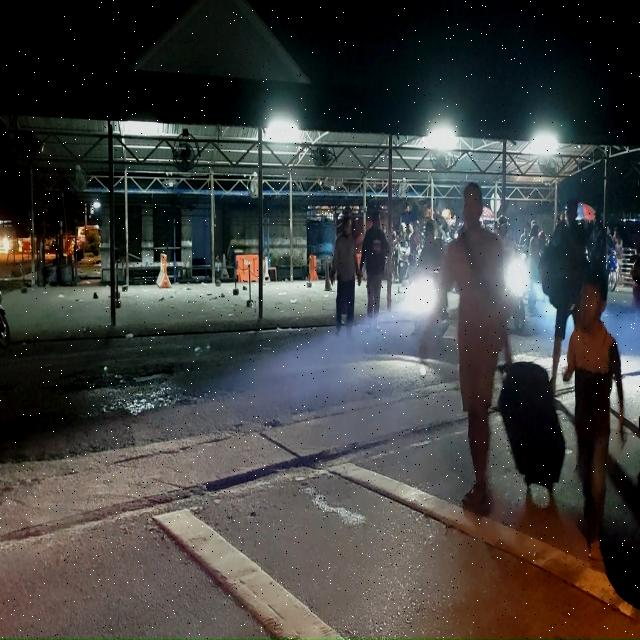Golongan II: (403, 268, 450, 348), (505, 254, 530, 334), (396, 244, 411, 282), (606, 248, 618, 292)
